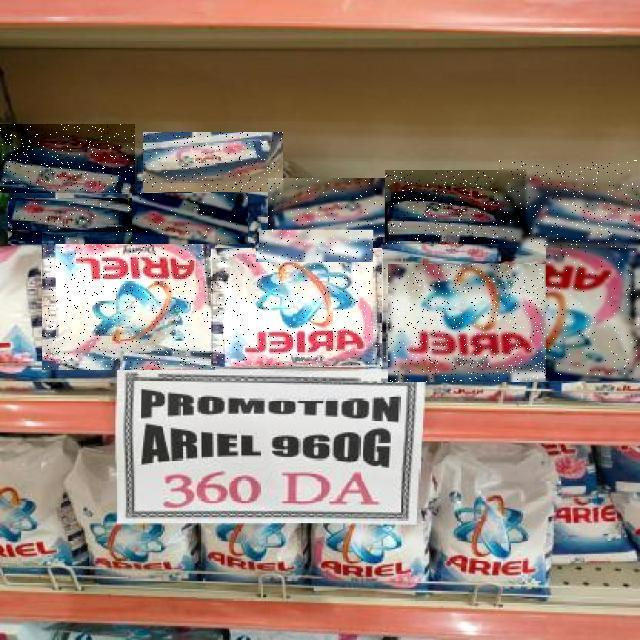Detergent: (42, 232, 215, 370), (212, 248, 386, 367), (388, 264, 549, 382), (546, 239, 640, 381), (499, 160, 639, 248), (386, 171, 526, 245), (0, 124, 135, 193), (143, 133, 283, 193), (269, 178, 389, 237), (132, 193, 248, 244), (8, 199, 132, 245), (259, 230, 373, 262)
